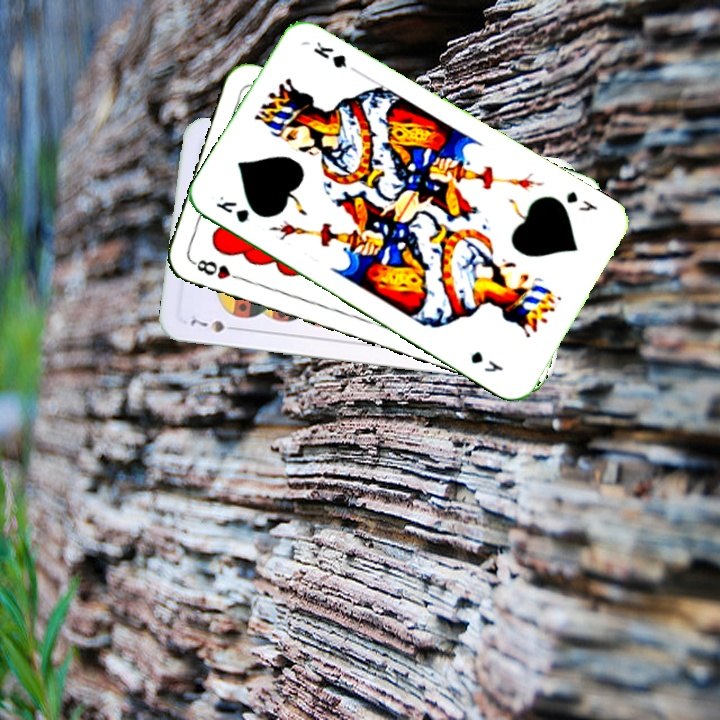GK: (212, 192, 252, 226), (562, 187, 600, 214)
H8: (189, 255, 246, 283)
S7: (186, 314, 242, 335)
